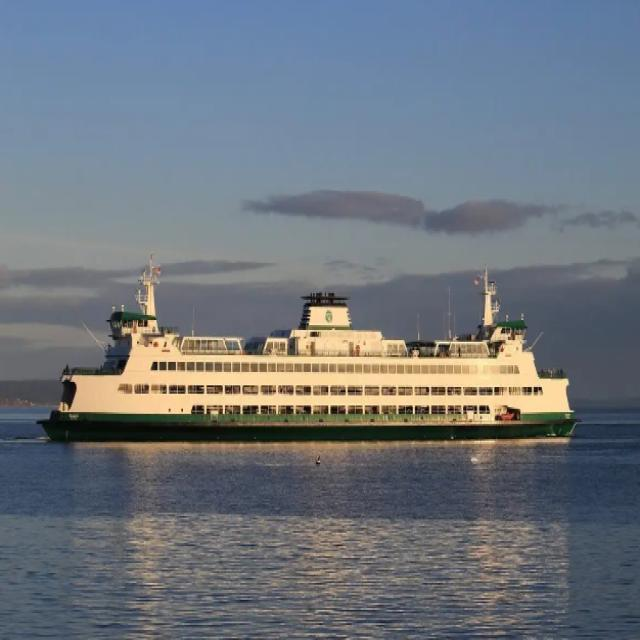passenger ship: (52, 240, 575, 463)
